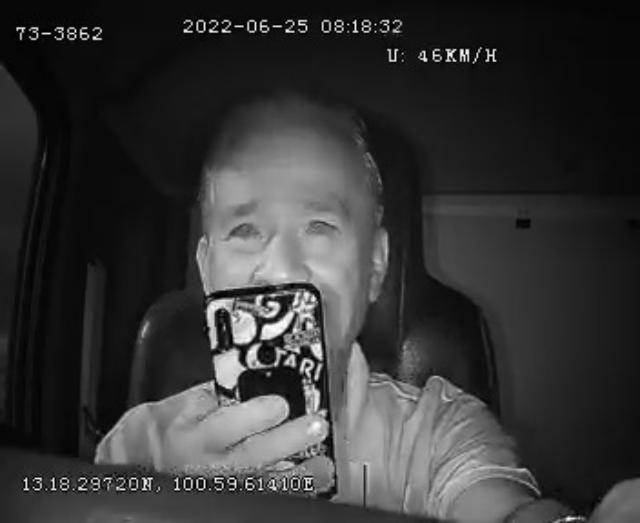PhoneUse: (205, 283, 337, 477)
SafeDriving: (212, 202, 272, 256), (296, 198, 348, 246)
